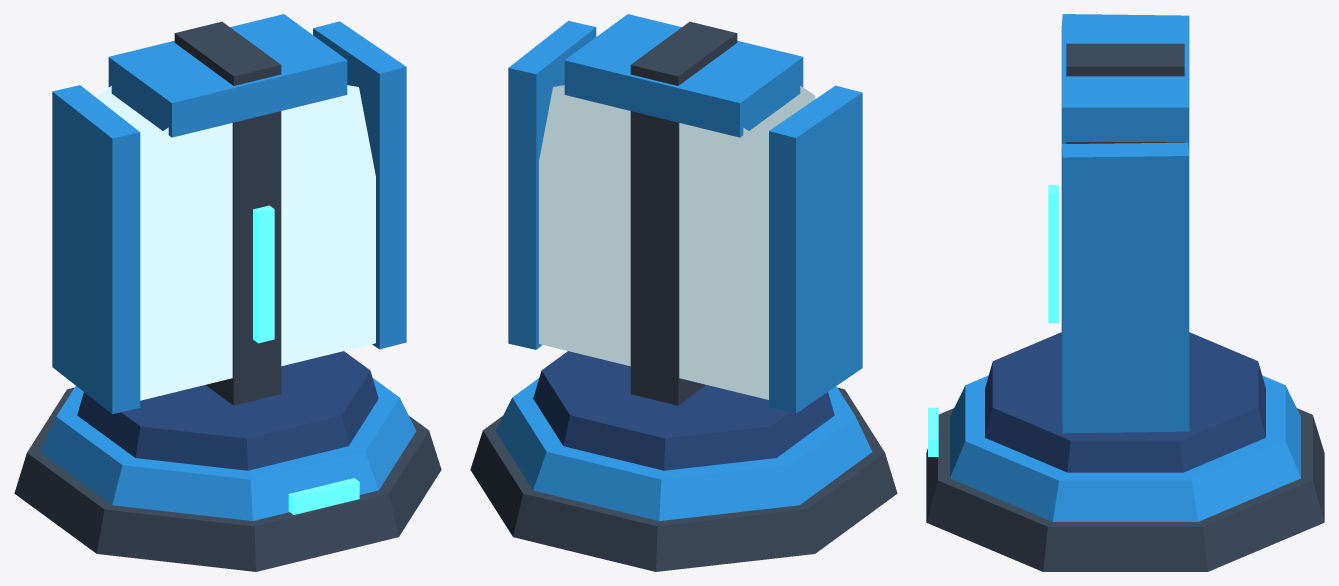
The model's file is double_mirror_blue.glb.
The picture shows the model from 3 angles, left to right: view 1: azimuth 30°, elevation 25°; view 2: azimuth 150°, elevation 25°; view 3: azimuth 270°, elevation 25°; orthographic projection.
Parts seen in each view (by area): view 1: double_mirror_blue_Mirror_Back, double_mirror_blue_Frame_Left, double_mirror_blue_Base_Lower, double_mirror_blue_Base_Deck, double_mirror_blue_Base_Band, double_mirror_blue_Frame_Top, double_mirror_blue_Central_Spine, double_mirror_blue_Frame_Right, double_mirror_blue_Optical_Slit, double_mirror_blue_Status_Light, double_mirror_blue_Mirror_Front; view 2: double_mirror_blue_Mirror_Front, double_mirror_blue_Frame_Left, double_mirror_blue_Base_Lower, double_mirror_blue_Base_Band, double_mirror_blue_Base_Deck, double_mirror_blue_Central_Spine, double_mirror_blue_Frame_Top, double_mirror_blue_Frame_Right, double_mirror_blue_Mirror_Back; view 3: double_mirror_blue_Frame_Right, double_mirror_blue_Base_Lower, double_mirror_blue_Base_Band, double_mirror_blue_Base_Deck, double_mirror_blue_Frame_Top, double_mirror_blue_Central_Spine, double_mirror_blue_Optical_Slit, double_mirror_blue_Frame_Left, double_mirror_blue_Status_Light.
Boxes of the visible parts, x1=… form: double_mirror_blue_Mirror_Back: x1=140, y1=85, x2=375, y2=400; double_mirror_blue_Frame_Left: x1=52, y1=85, x2=140, y2=413; double_mirror_blue_Base_Lower: x1=14, y1=387, x2=441, y2=571; double_mirror_blue_Base_Deck: x1=77, y1=351, x2=378, y2=470; double_mirror_blue_Base_Band: x1=39, y1=378, x2=416, y2=520; double_mirror_blue_Frame_Top: x1=108, y1=14, x2=347, y2=137; double_mirror_blue_Central_Spine: x1=174, y1=21, x2=281, y2=405; double_mirror_blue_Frame_Right: x1=313, y1=21, x2=406, y2=349; double_mirror_blue_Optical_Slit: x1=253, y1=205, x2=274, y2=343; double_mirror_blue_Status_Light: x1=288, y1=478, x2=359, y2=514; double_mirror_blue_Mirror_Front: x1=96, y1=86, x2=162, y2=214; double_mirror_blue_Mirror_Front: x1=539, y1=85, x2=768, y2=399; double_mirror_blue_Frame_Left: x1=769, y1=85, x2=862, y2=413; double_mirror_blue_Base_Lower: x1=470, y1=387, x2=897, y2=571; double_mirror_blue_Base_Band: x1=495, y1=378, x2=872, y2=520; double_mirror_blue_Base_Deck: x1=533, y1=351, x2=834, y2=470; double_mirror_blue_Central_Spine: x1=630, y1=21, x2=737, y2=405; double_mirror_blue_Frame_Top: x1=564, y1=14, x2=803, y2=137; double_mirror_blue_Frame_Right: x1=508, y1=21, x2=596, y2=349; double_mirror_blue_Mirror_Back: x1=749, y1=86, x2=815, y2=199; double_mirror_blue_Frame_Right: x1=1061, y1=142, x2=1189, y2=433; double_mirror_blue_Base_Lower: x1=926, y1=408, x2=1324, y2=571; double_mirror_blue_Base_Band: x1=950, y1=375, x2=1300, y2=521; double_mirror_blue_Base_Deck: x1=985, y1=332, x2=1265, y2=472; double_mirror_blue_Frame_Top: x1=1062, y1=22, x2=1188, y2=141; double_mirror_blue_Central_Spine: x1=1066, y1=43, x2=1184, y2=143; double_mirror_blue_Optical_Slit: x1=1048, y1=185, x2=1058, y2=323; double_mirror_blue_Frame_Left: x1=1061, y1=14, x2=1189, y2=153; double_mirror_blue_Status_Light: x1=928, y1=407, x2=938, y2=456.
Bounding box in the file's own units: 0.9424 × 1.13 × 0.9424.
